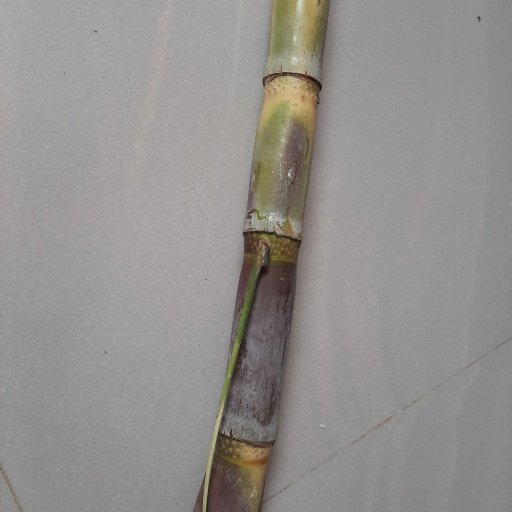Sprouted_Bud: (248, 236, 272, 283)
